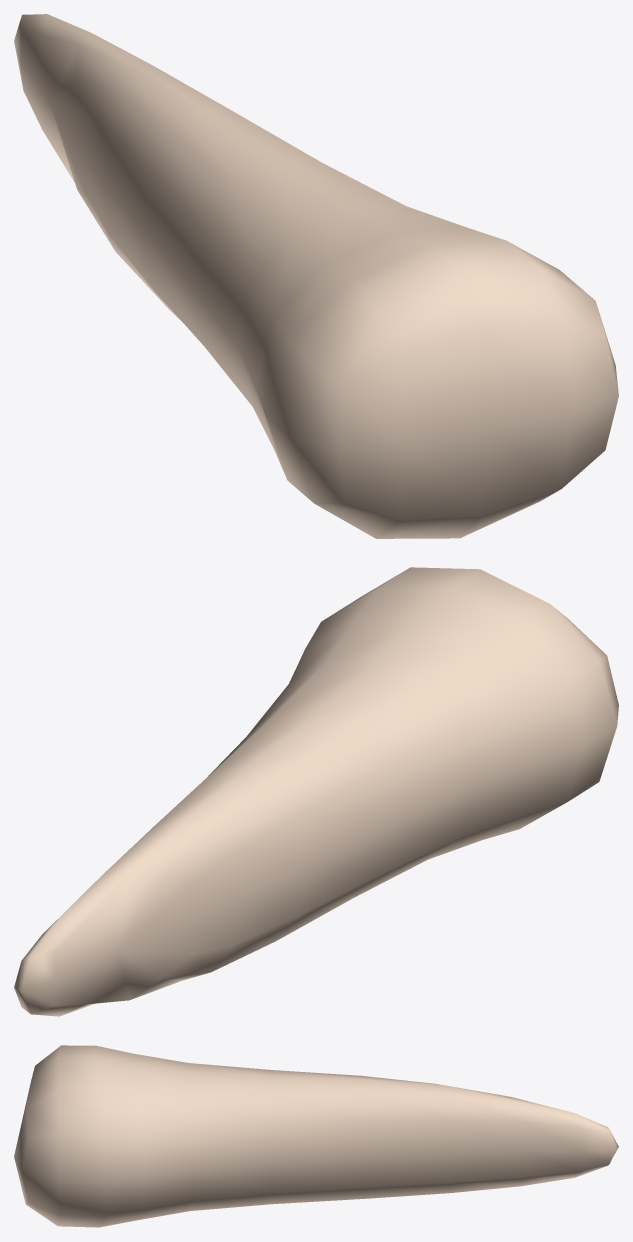
Rendered from bone.fbx.
3 renders of one model, top to bottom at view 1: azimuth 30°, elevation 25°; view 2: azimuth 150°, elevation 25°; view 3: azimuth 270°, elevation 25°, orthographic. The views are drawn at different scales.
Parts seen in each view (by area): view 1: Cube; view 2: Cube; view 3: Cube.
Boxes of the visible parts, left/top/right/bottom form: Cube: left=14, top=14, right=618, bottom=538; Cube: left=14, top=567, right=618, bottom=1016; Cube: left=14, top=1045, right=618, bottom=1227.
Size of the model in its own units: 40.7 by 32.59 by 114.
Materials: 1 (1 with a texture image).
